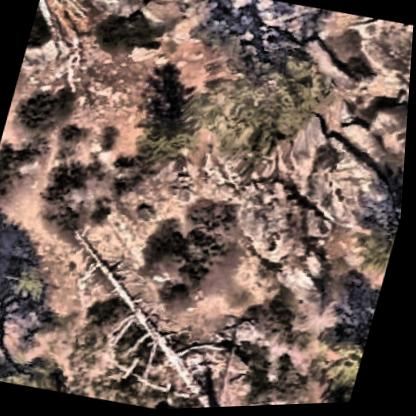tree-top: (190, 19, 339, 169), (336, 187, 406, 291), (305, 313, 376, 404), (129, 92, 204, 173), (0, 245, 66, 323)
